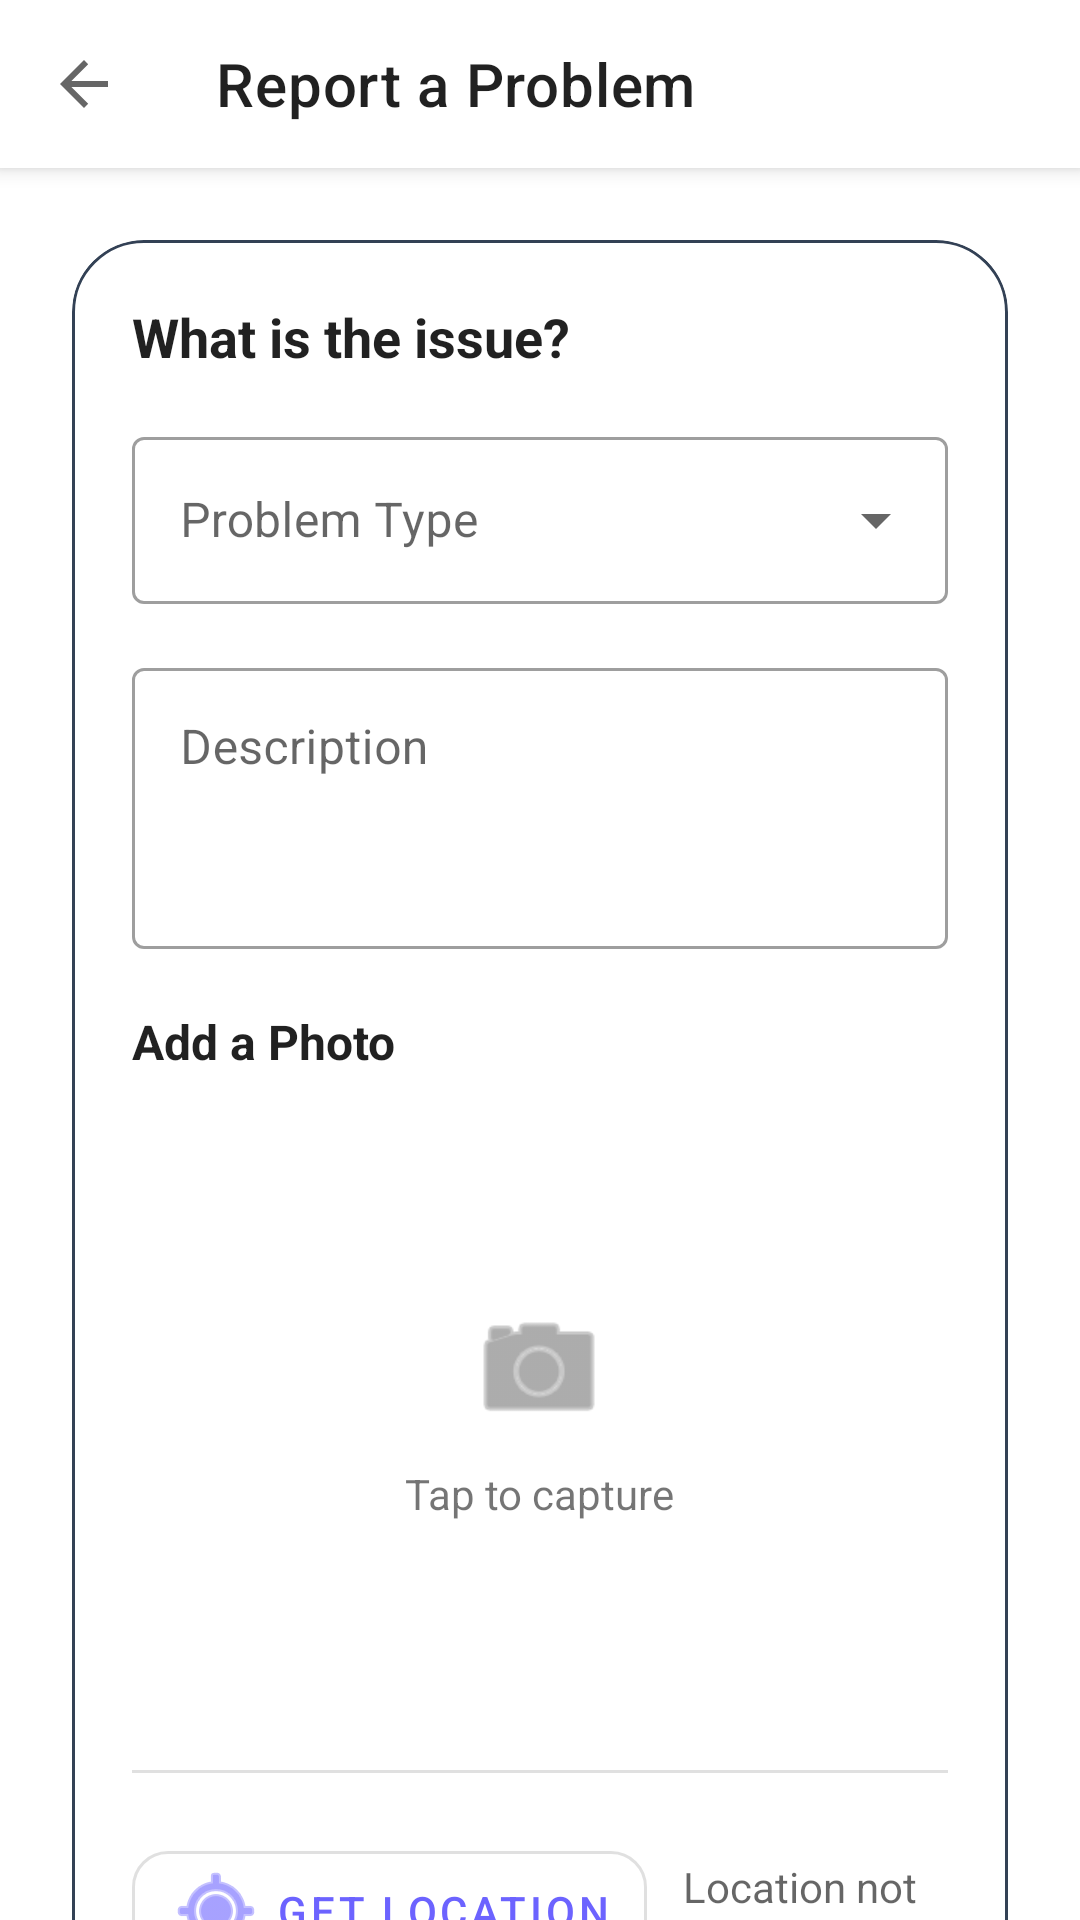

Icon click points for this 1080px×1920px phone screenshot, format [x,y]:
camera: [539,1367]
